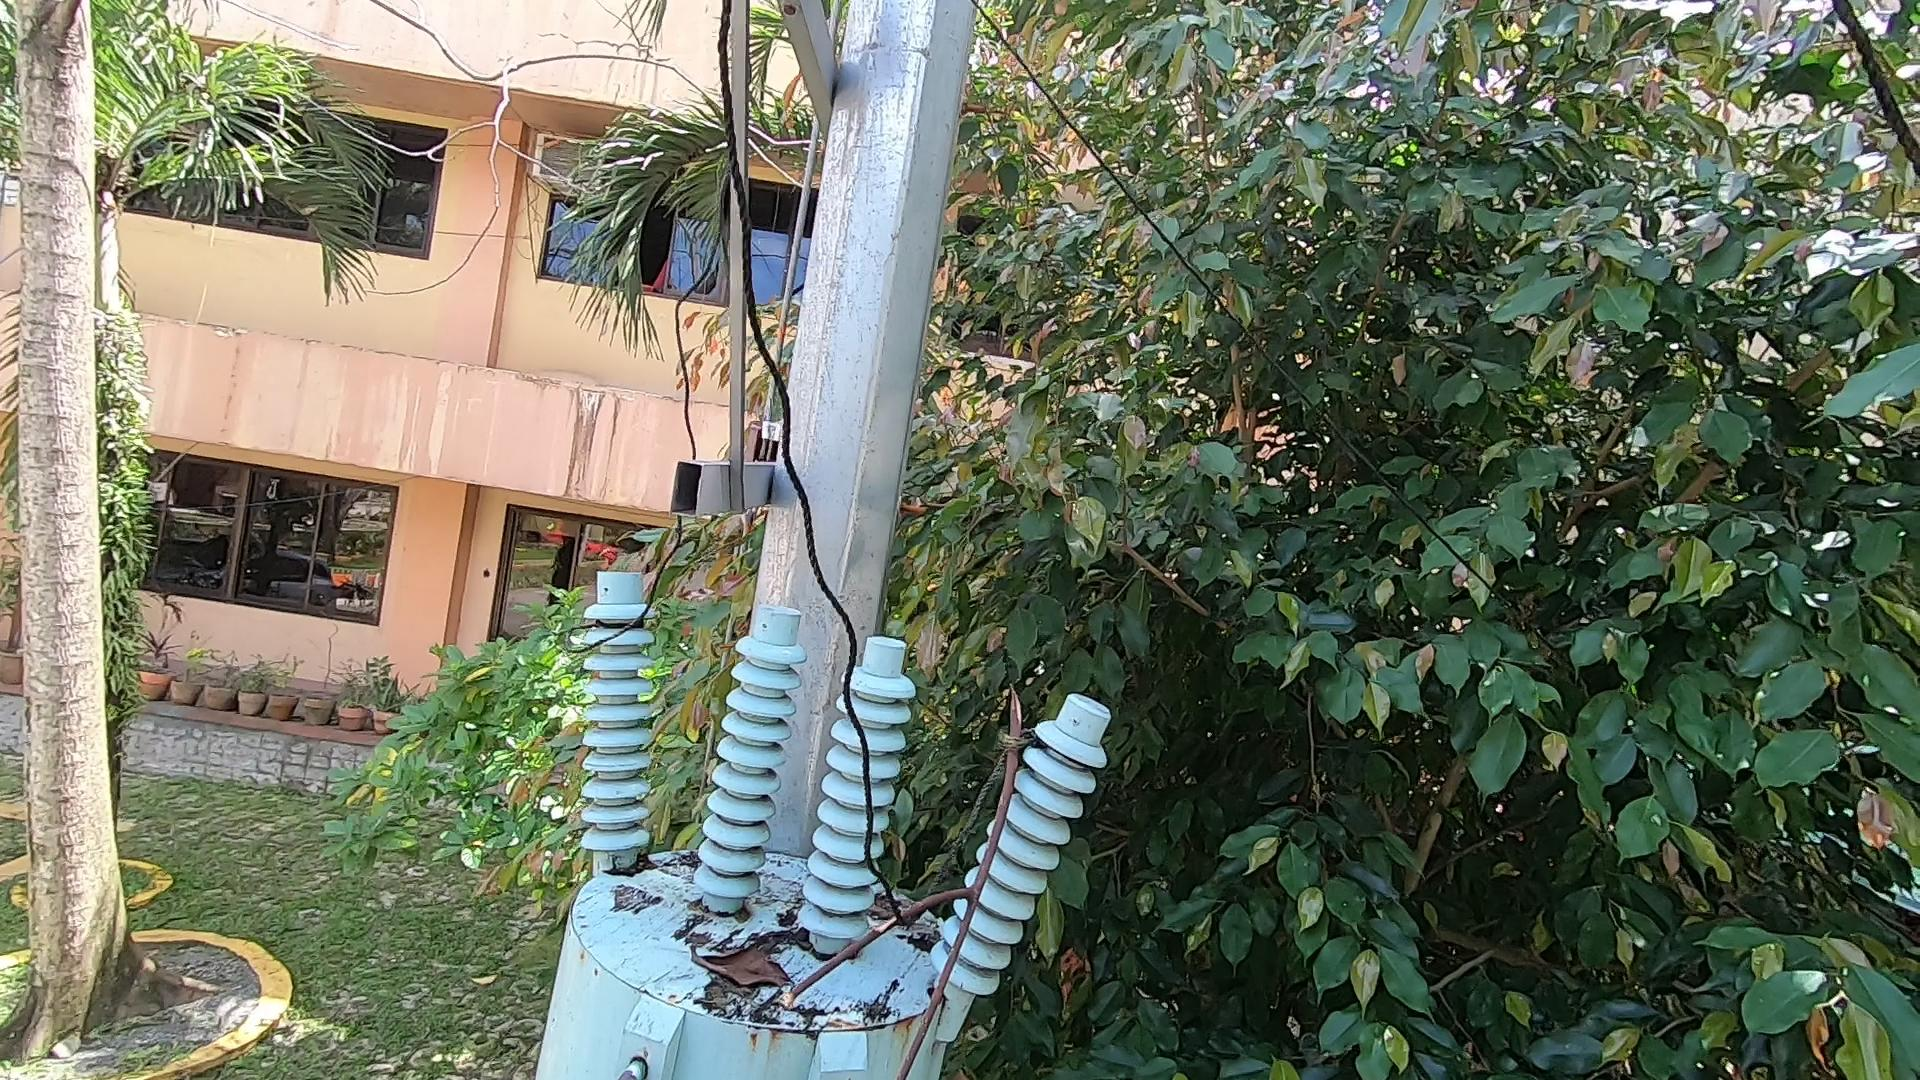leaf: (702, 938, 800, 994)
tree branch: (760, 675, 1073, 1080)
